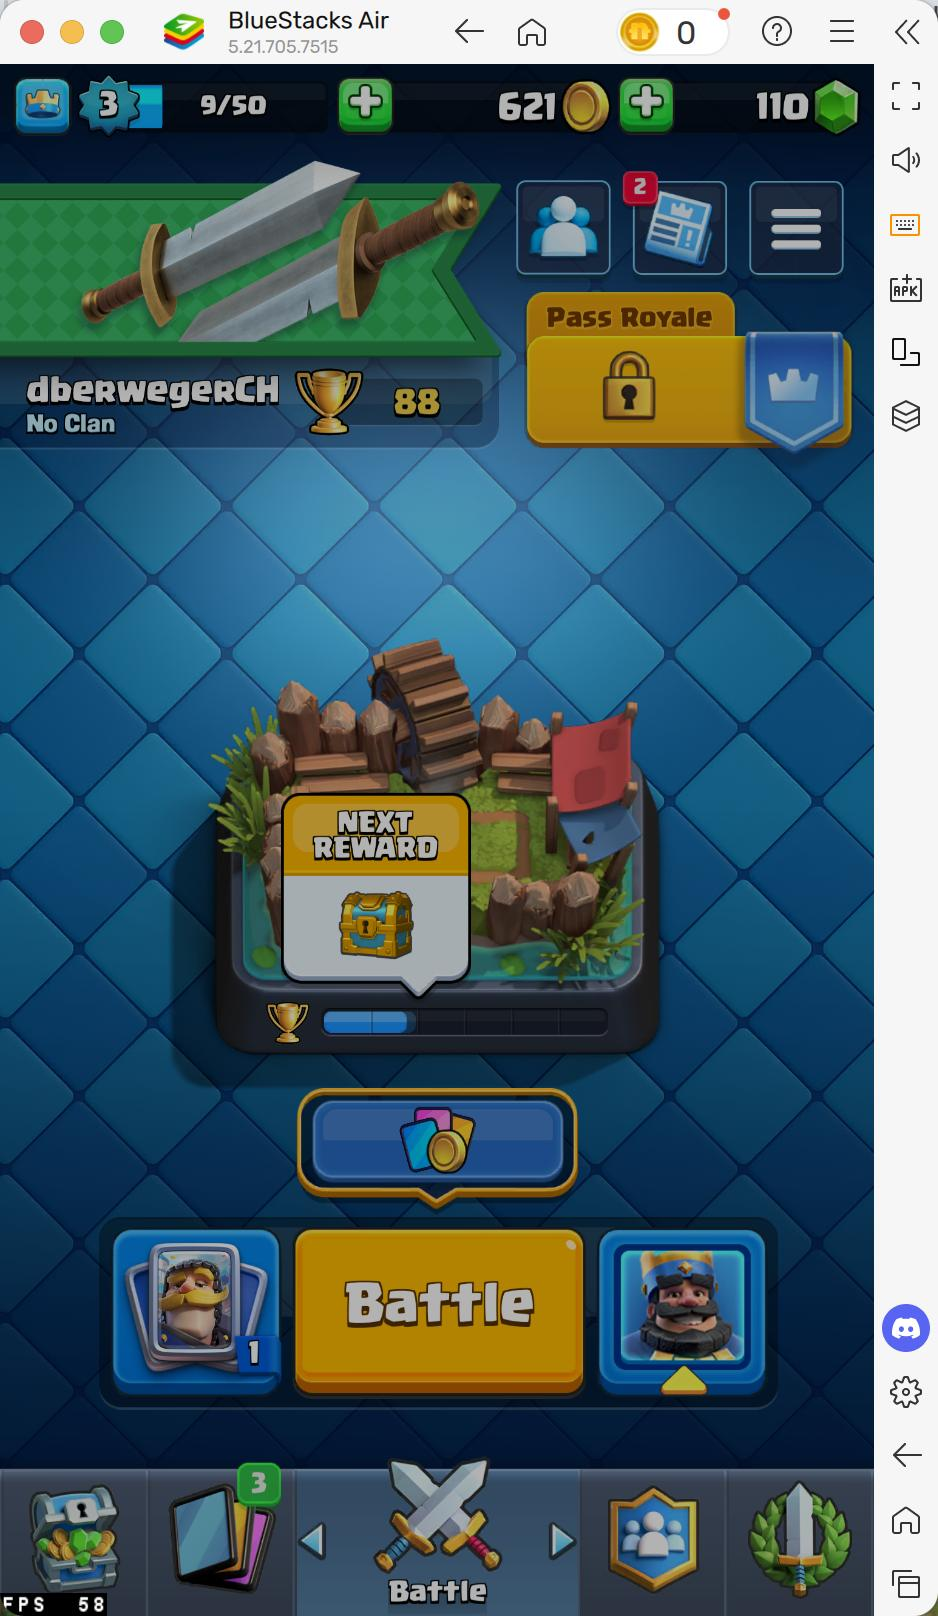Battle: (295, 1230, 584, 1392)
